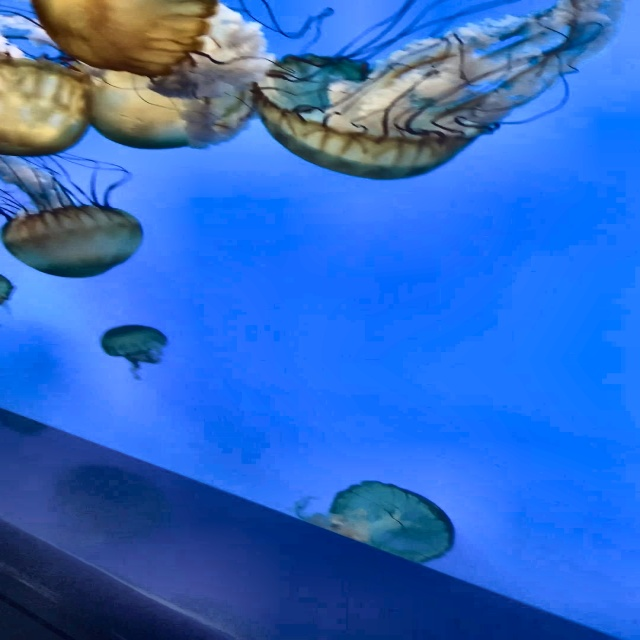jellyfish: (31, 0, 225, 75), (0, 279, 14, 305)
stingray: (253, 52, 507, 183), (63, 4, 280, 147), (0, 199, 147, 279), (325, 480, 457, 565), (0, 51, 101, 158), (95, 322, 169, 359), (0, 269, 14, 306)
